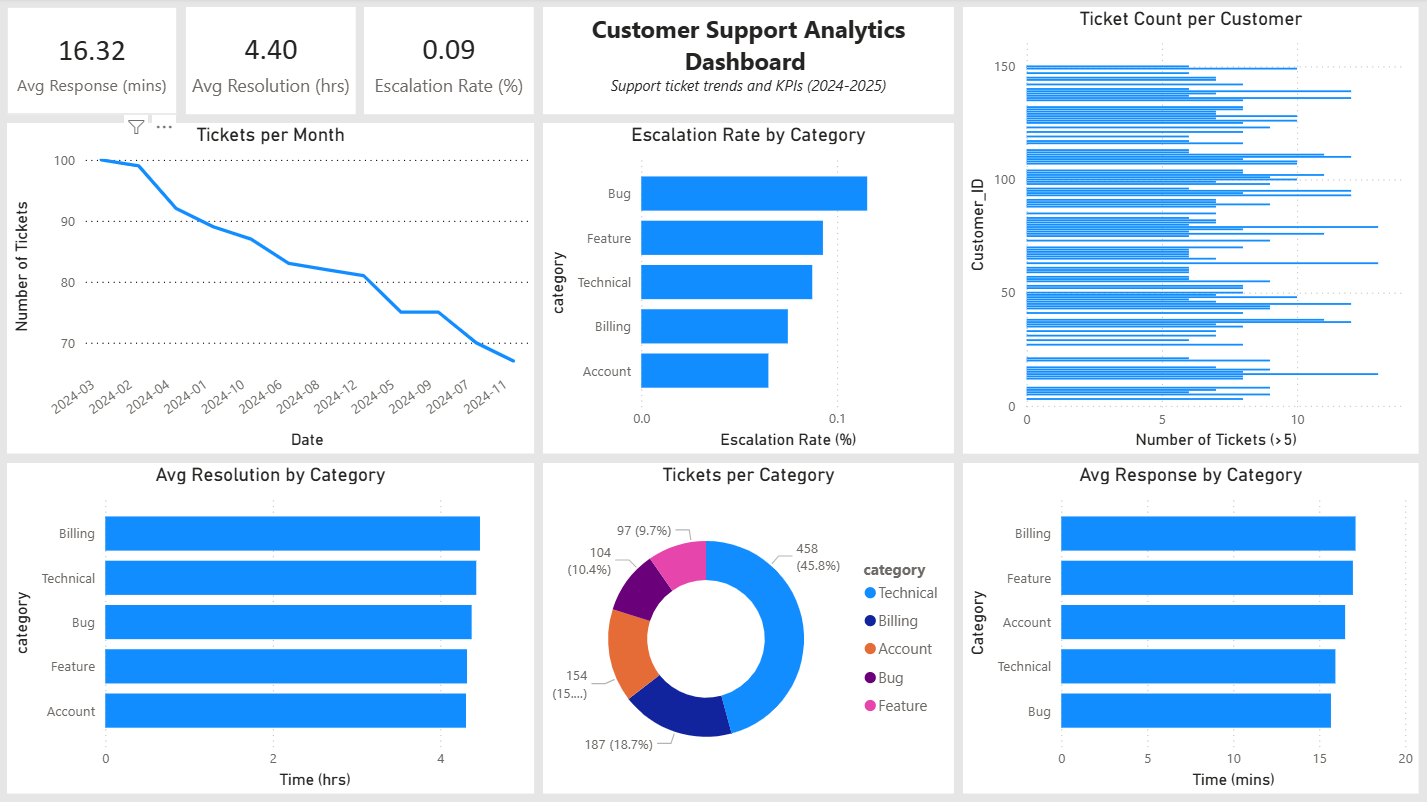

This screenshot's page, from the dashboard's own definition file:
{"tool":"powerbi","page":{"name":"Page 1","canvas":[1280,720],"ordinal":0},"visuals":[{"type":"barChart","title":"Avg Response by Category","fields":{"Y":["Tickets.Avg Response (mins)"],"Category":["Tickets.category"]},"box":[864,416,408,296],"z":0},{"type":"barChart","title":"Avg Resolution by Category ","fields":{"Y":["Tickets.Avg Resolution (hrs)"],"Category":["Tickets.category"]},"box":[8,416,472,296],"z":1000},{"type":"donutChart","title":"Tickets per Category ","fields":{"Y":["Tickets.Tickets per Category"],"Category":["Tickets.category"]},"box":[488,416,368,296],"z":2000},{"type":"barChart","title":"Escalation Rate by Category","fields":{"Y":["Tickets.Escalation Rate"],"Category":["Tickets.category"]},"box":[488,112,368,296],"z":3000},{"type":"barChart","title":"Ticket Count per Customer ","fields":{"Y":["Tickets.Ticket Count per Customer"],"Category":["Tickets.customer_id"]},"box":[864,8,408,400],"z":4000},{"type":"lineChart","title":"Tickets per Month","fields":{"Category":["DimDate.YearMonth"],"Y":["Tickets.Tickets per Month"]},"box":[8,112,472,296],"z":5000},{"type":"card","fields":{"Values":["Tickets.Avg Response (mins)"]},"box":[8,8,152,96],"z":6000},{"type":"card","fields":{"Values":["Tickets.Avg Resolution (hrs)"]},"box":[168,8,152,96],"z":7000},{"type":"card","fields":{"Values":["Tickets.Escalation Rate (%)"]},"box":[328,8,152,96],"z":8000},{"type":"textbox","box":[488,8,368,96],"z":9000}]}

Visuals, with their boxes in screenshot pixels (x1, y1, x2, y2), scaled from the page's 1280x720 canvas onto the 1427x802 screenshot:
"Avg Response by Category" barChart: 963:463:1418:793
"Avg Resolution by Category " barChart: 9:463:535:793
"Tickets per Category " donutChart: 544:463:954:793
"Escalation Rate by Category" barChart: 544:125:954:454
"Ticket Count per Customer " barChart: 963:9:1418:454
"Tickets per Month" lineChart: 9:125:535:454
card - Tickets.Avg Response (mins): 9:9:178:116
card - Tickets.Avg Resolution (hrs): 187:9:357:116
card - Tickets.Escalation Rate (%): 366:9:535:116
textbox: 544:9:954:116
